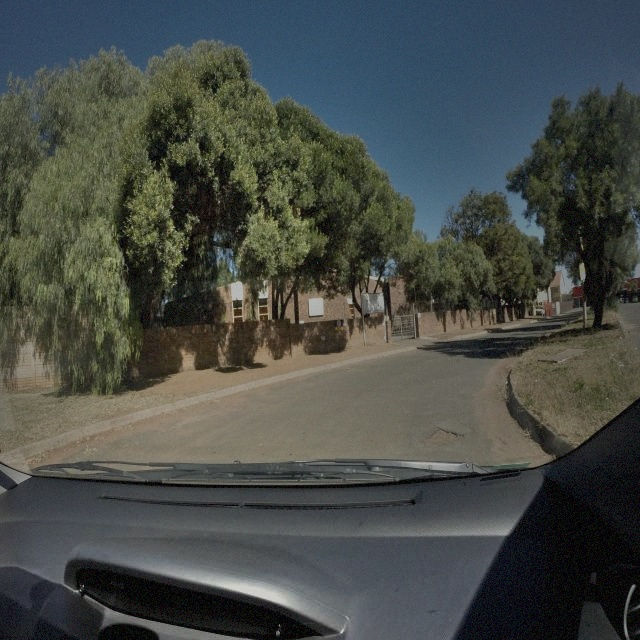pothole: (427, 424, 463, 446)
